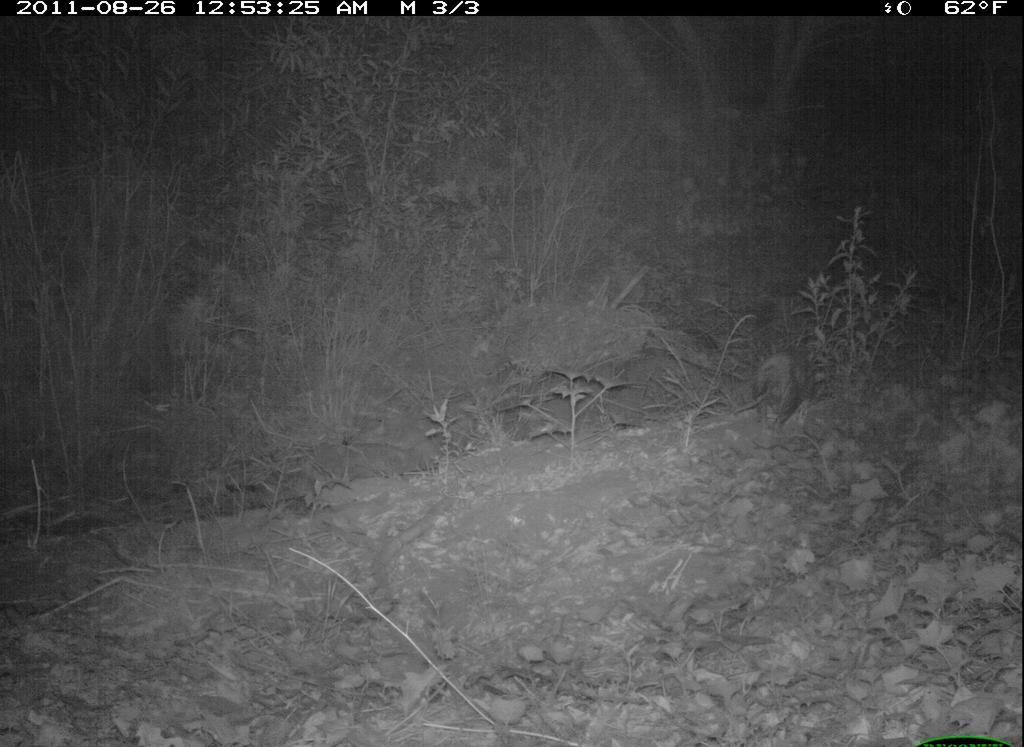opossum: (728, 346, 820, 441)
